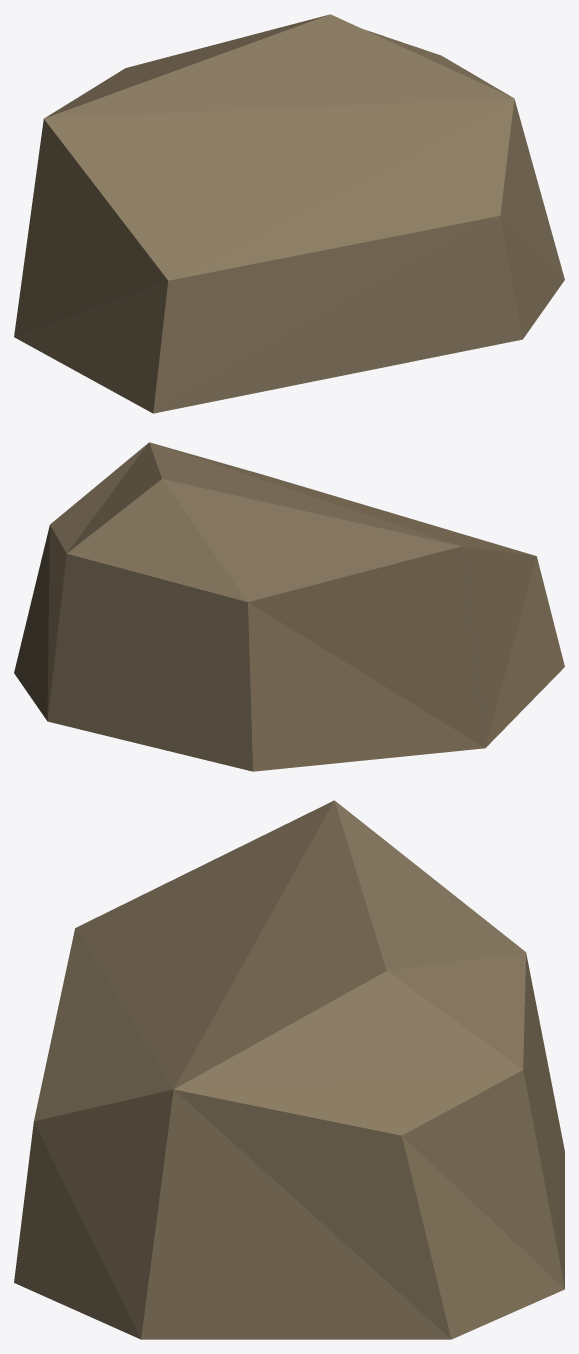
The model's file is TB_D_Env_StoneA_C.FBX.
The picture shows the model from 3 angles, top to bottom: view 1: azimuth 30°, elevation 25°; view 2: azimuth 150°, elevation 25°; view 3: azimuth 270°, elevation 25°; orthographic projection. The views are drawn at different scales.
Parts seen in each view (by area): view 1: TB_D_Env_StoneA_C; view 2: TB_D_Env_StoneA_C; view 3: TB_D_Env_StoneA_C.
Part boxes in pixels (left/top/right/bottom): TB_D_Env_StoneA_C: left=14, top=14, right=564, bottom=413; TB_D_Env_StoneA_C: left=14, top=442, right=564, bottom=771; TB_D_Env_StoneA_C: left=14, top=800, right=564, bottom=1339.
Size of the model in its own units: 0.6569 by 0.3022 by 0.5293.
